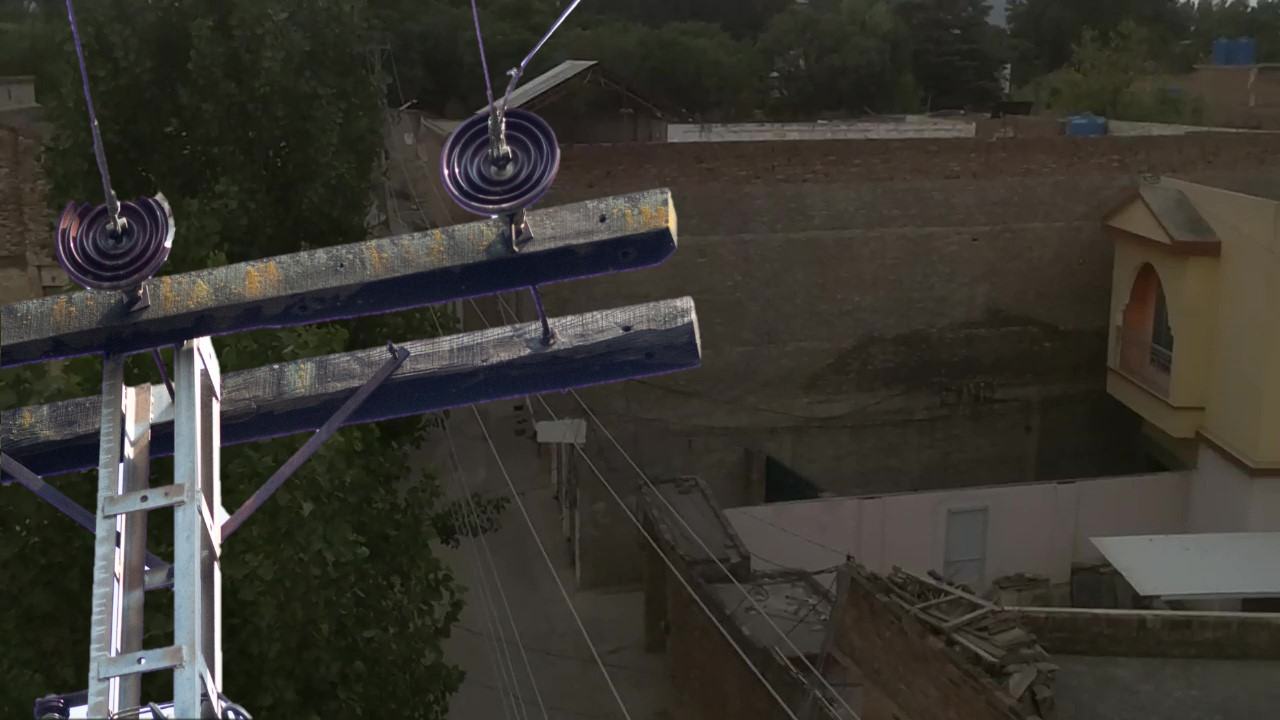defect_disc: (50, 179, 193, 292)
insulator_disc: (438, 100, 568, 219)
